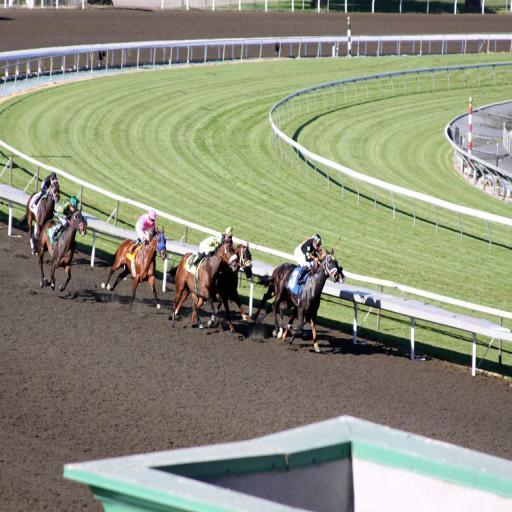horse: (250, 257, 346, 354), (271, 249, 339, 348), (168, 236, 239, 327), (189, 240, 253, 334), (101, 226, 168, 314), (37, 202, 87, 290), (18, 177, 61, 256)
